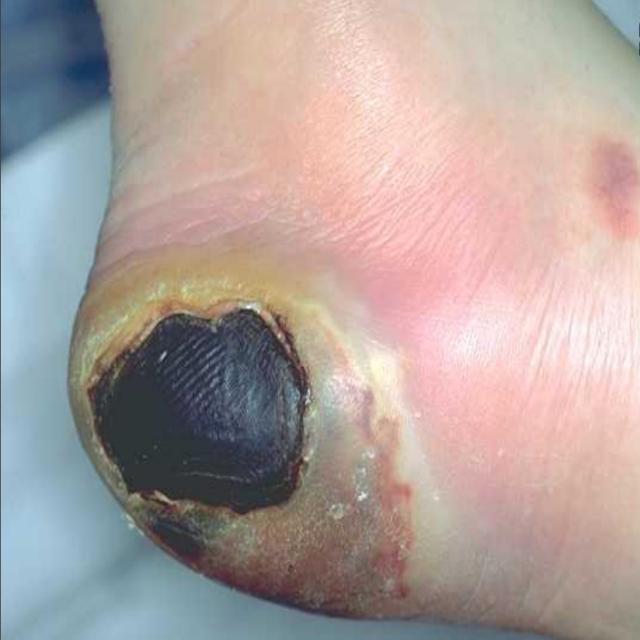Unstageable: (71, 257, 410, 615)
